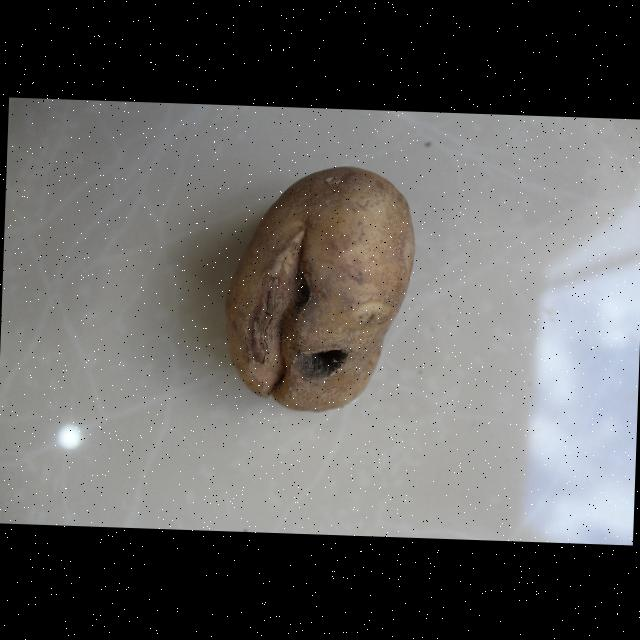Damaged potato: (220, 156, 422, 420)
